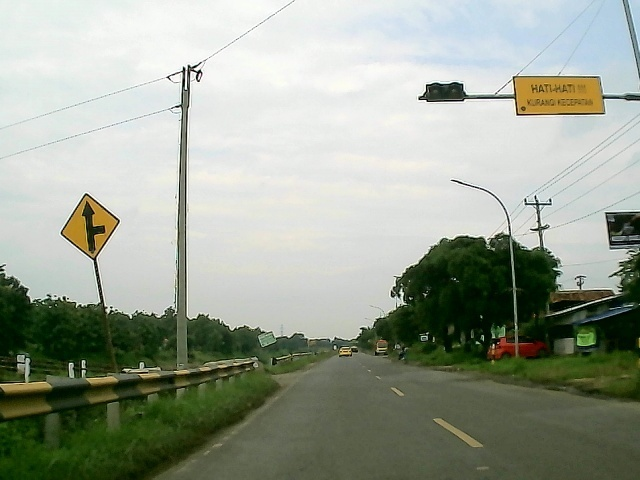Simpang kanan dengan prioritas: (61, 192, 122, 261)
